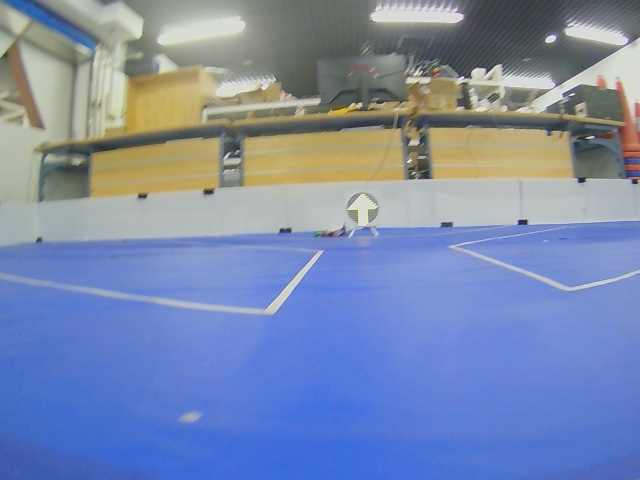straight_yellow: (347, 193, 379, 227)
